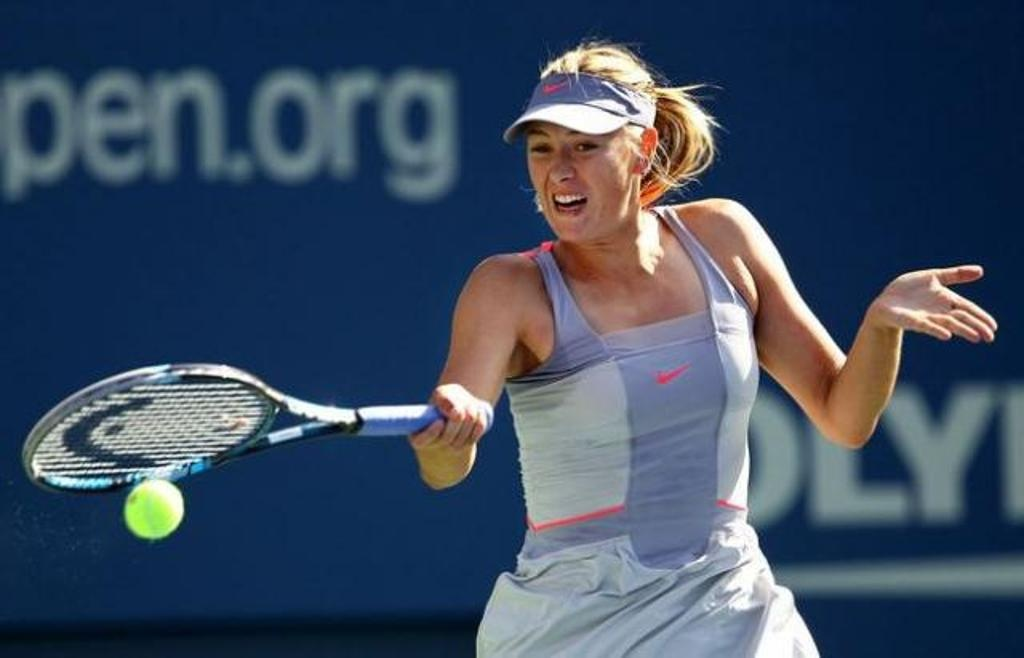face: (526, 122, 634, 238)
